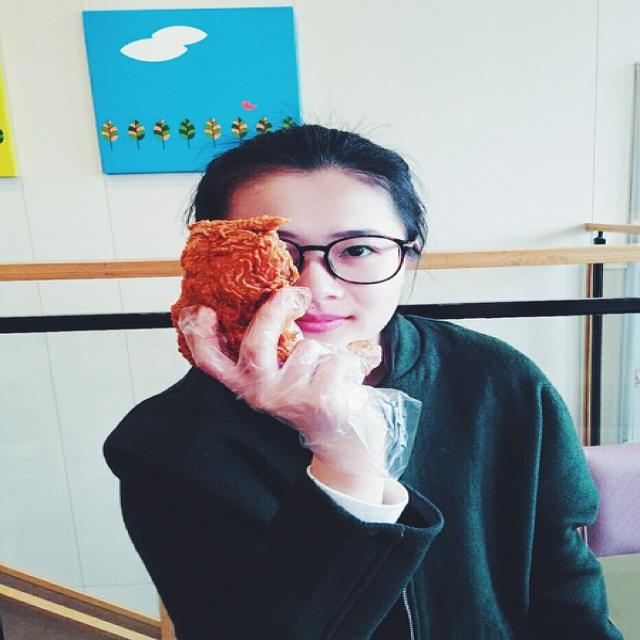nomask: (238, 172, 405, 357)
